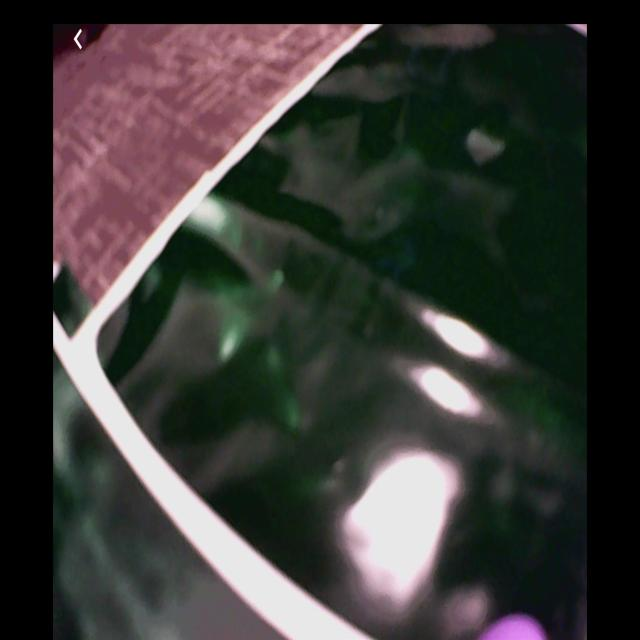ball: (481, 610, 550, 640)
